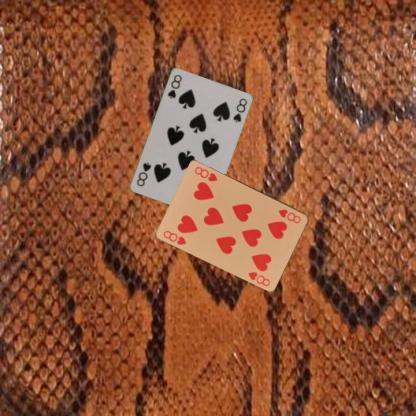8h: (276, 206, 302, 225), (161, 228, 188, 246)
8s: (165, 72, 183, 99)
